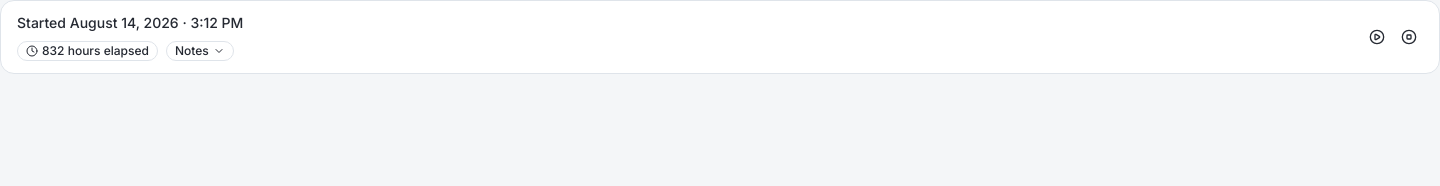
Test: DishActiveSessionCard › expands Notes to show the currently-selected cooking units (present tense) and current Cooking notes
Expected: the text "Cooking: Prep, Sauce" is not shown
Click the button "Notes" at (200, 51), box [166, 41, 234, 61]
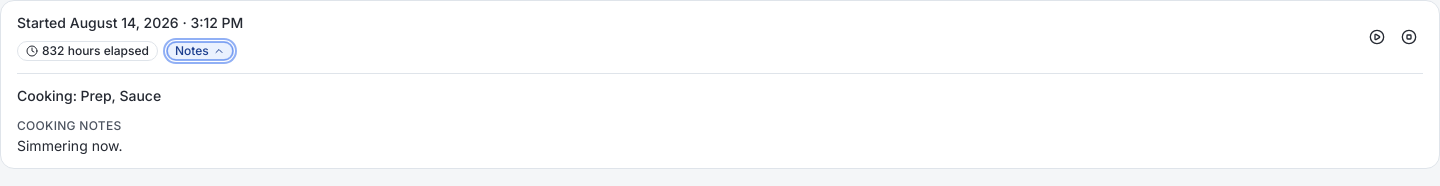
Expected: the text "Cooking: Prep, Sauce" is shown, [17, 87, 161, 104]
Expected: the text "Simmering now." is shown, [17, 137, 122, 154]
